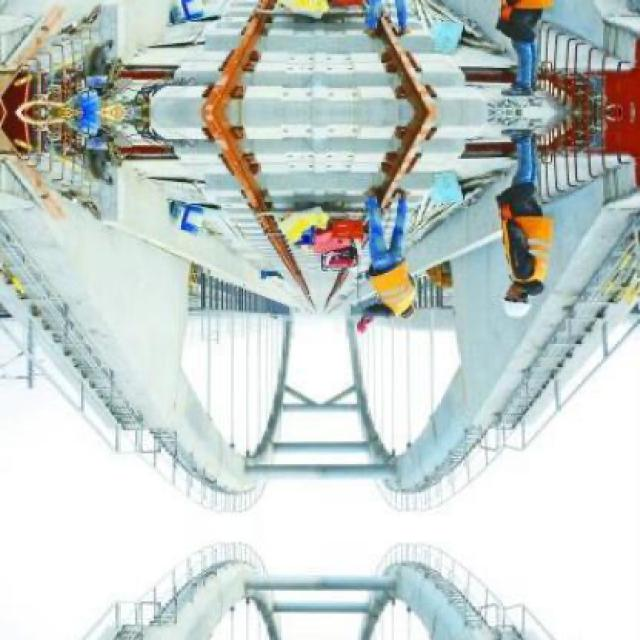con casco: (489, 264, 557, 335), (378, 279, 417, 329)
